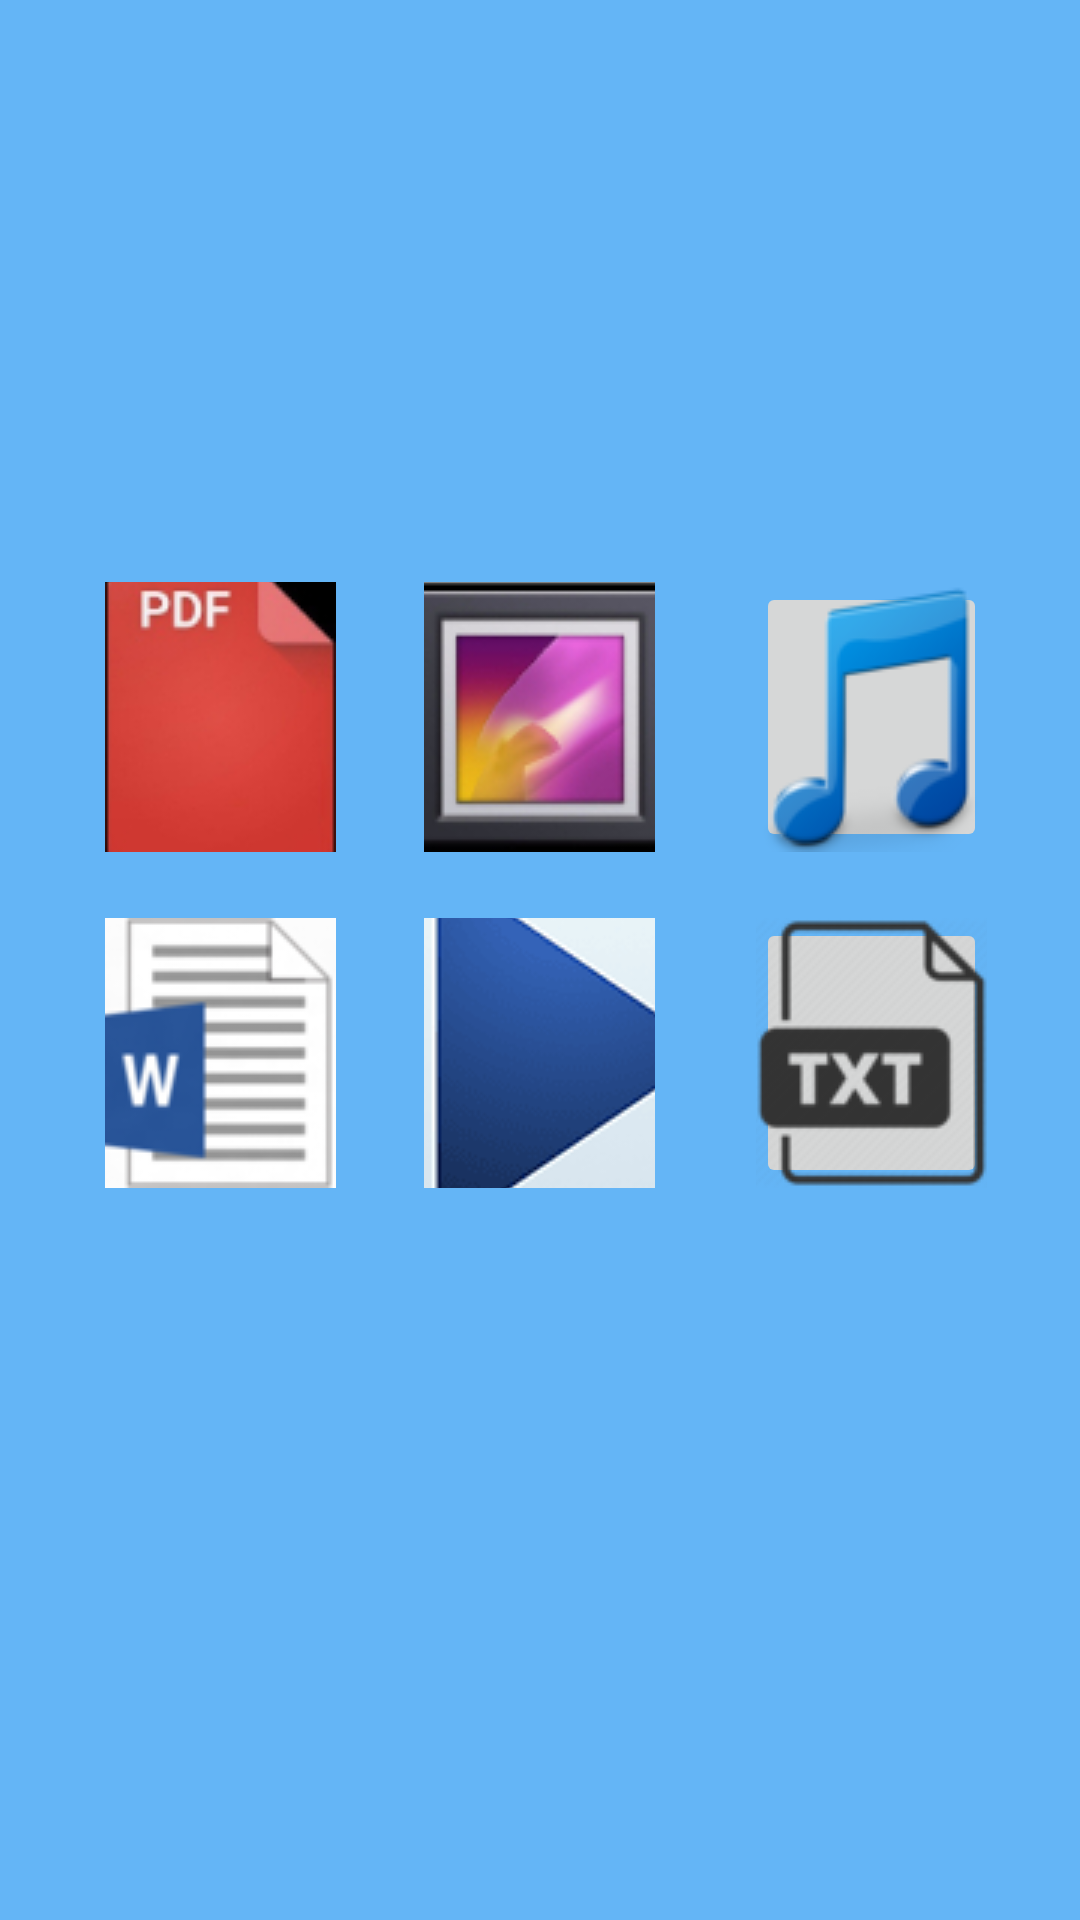

Icon click points for this 1080*1920 phone screenshot, format [x,y]:
audio: [871,721]
gal: [539,717]
video: [539,1053]
